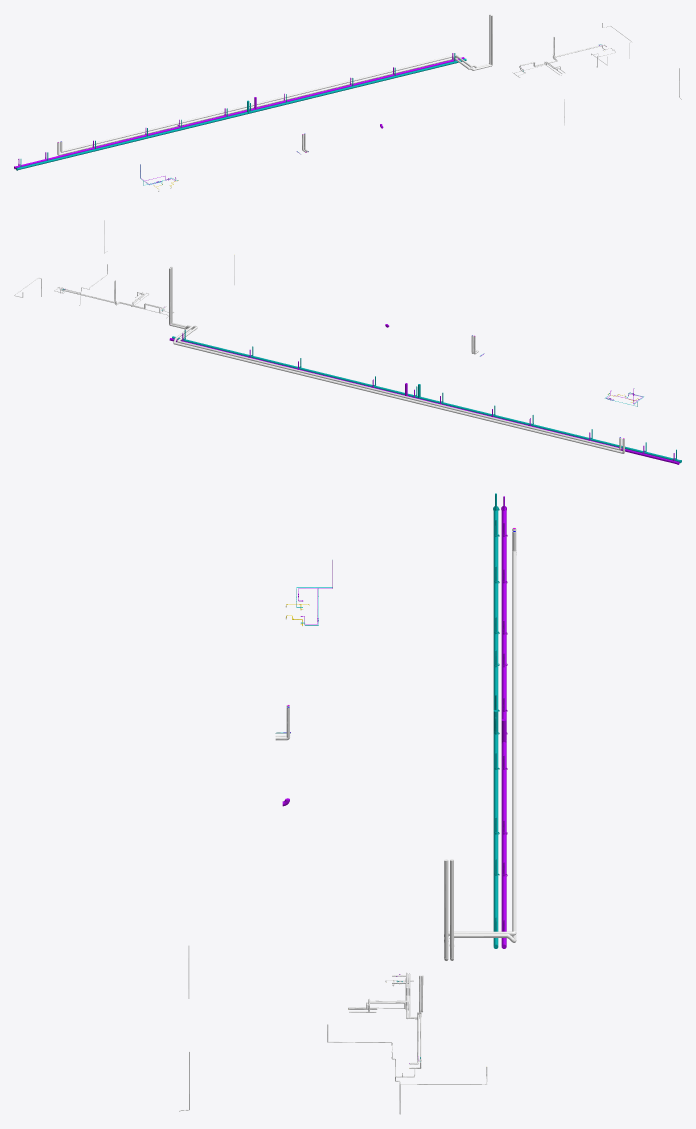
File: detail-pipes-lite-1-gf.glb
3 views of the same model, one above another, from view 1: azimuth 30°, elevation 25°; view 2: azimuth 150°, elevation 25°; view 3: azimuth 270°, elevation 25° (orthographic). The views are drawn at different scales.
Bounding box in the file's own units: 128 × 13.52 × 31.54.
